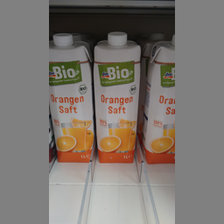juice: (94, 32, 142, 163), (49, 34, 96, 165), (144, 38, 174, 165)
